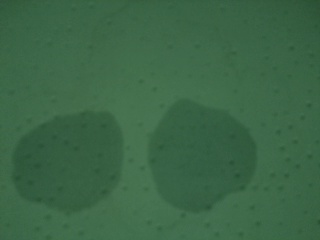Water_detected: (26, 129, 105, 197), (156, 110, 223, 187)
